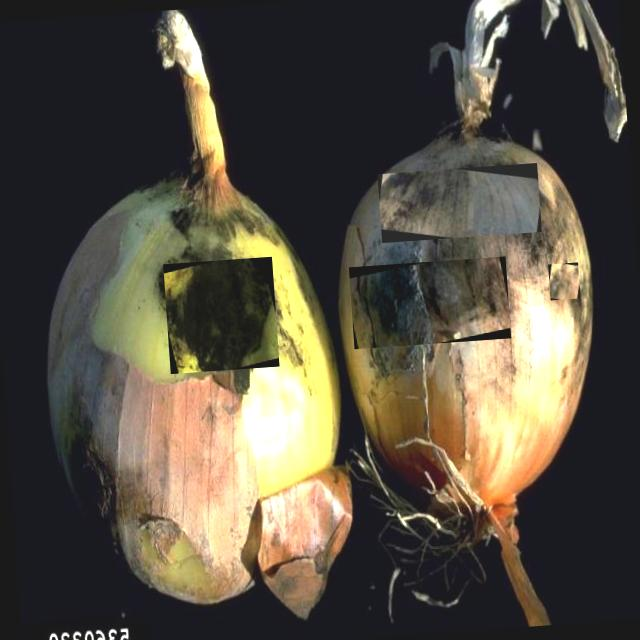mould: (348, 256, 511, 349), (163, 256, 279, 374), (377, 162, 541, 242), (548, 262, 580, 300)
